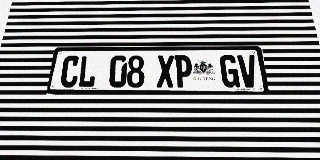0: (108, 55, 128, 88)
8: (126, 55, 145, 88)
C: (59, 56, 81, 88)
G: (219, 55, 240, 88)
L: (77, 56, 98, 88)
P: (174, 55, 193, 88)
V: (237, 55, 259, 88)
X: (157, 55, 174, 88)
